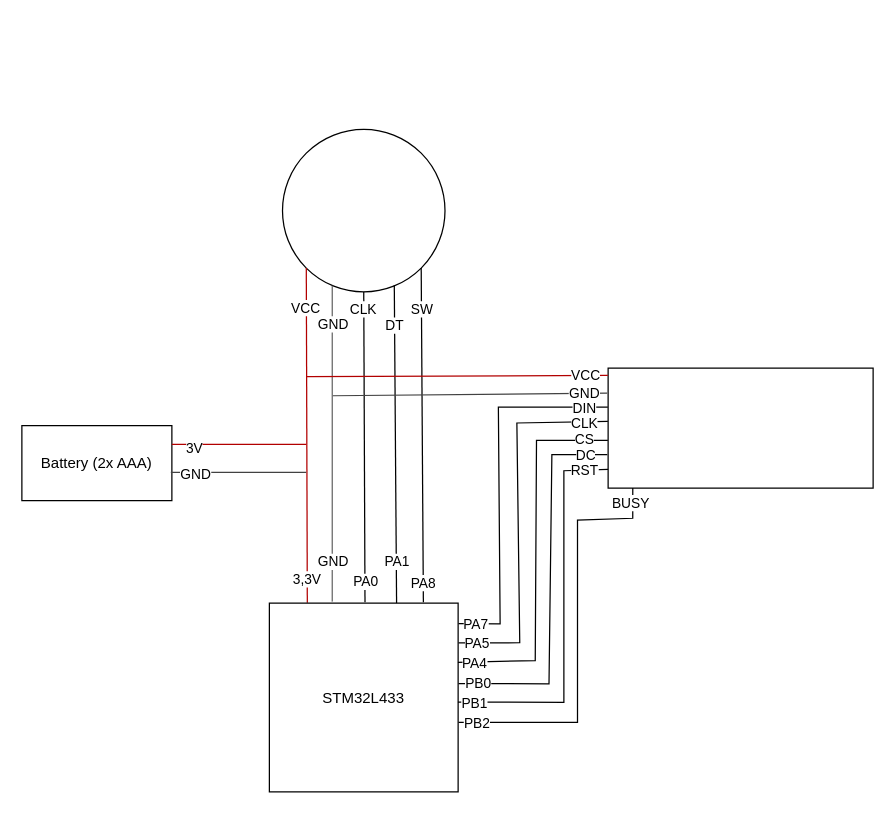
Some shapes in this 895 by 814 pixel diagram are drawn without their labels. Each missing label, with the centre of its shape:
"E-paper display" goes at point (740, 427).
"Rotary Encoder KY-040" goes at point (363, 210).
